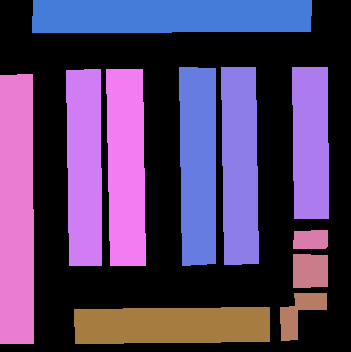parkingspot: (32, 0, 311, 32), (0, 74, 33, 343), (106, 69, 145, 265), (221, 67, 258, 264), (179, 67, 215, 265), (74, 307, 269, 343), (66, 69, 101, 265), (292, 67, 328, 218), (293, 254, 327, 287), (293, 230, 327, 248), (280, 306, 297, 340), (294, 293, 326, 309)
